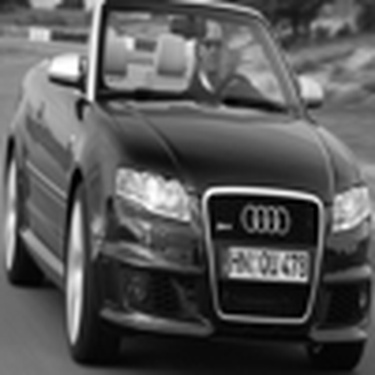car: (32, 3, 360, 367)
